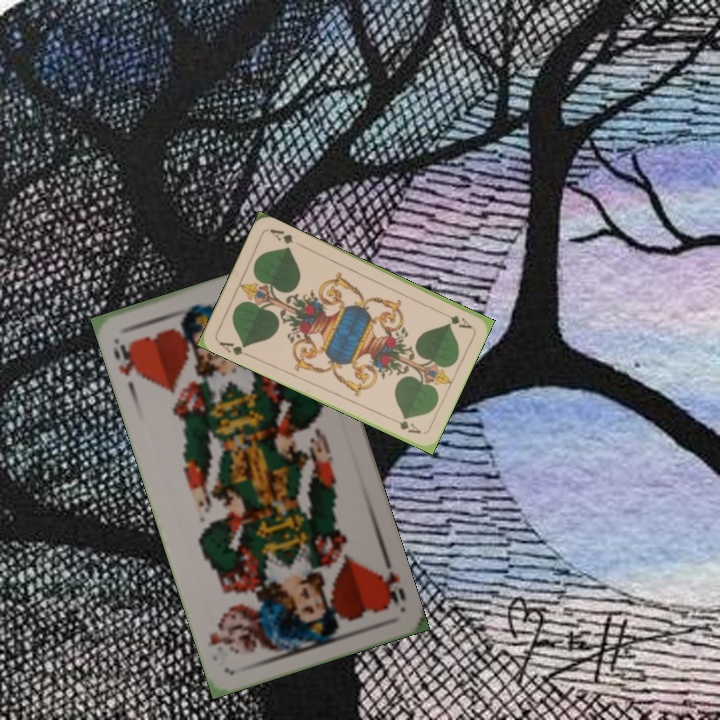GA: (436, 308, 474, 331), (215, 337, 253, 359)
HO: (375, 553, 408, 612), (109, 335, 145, 382)
